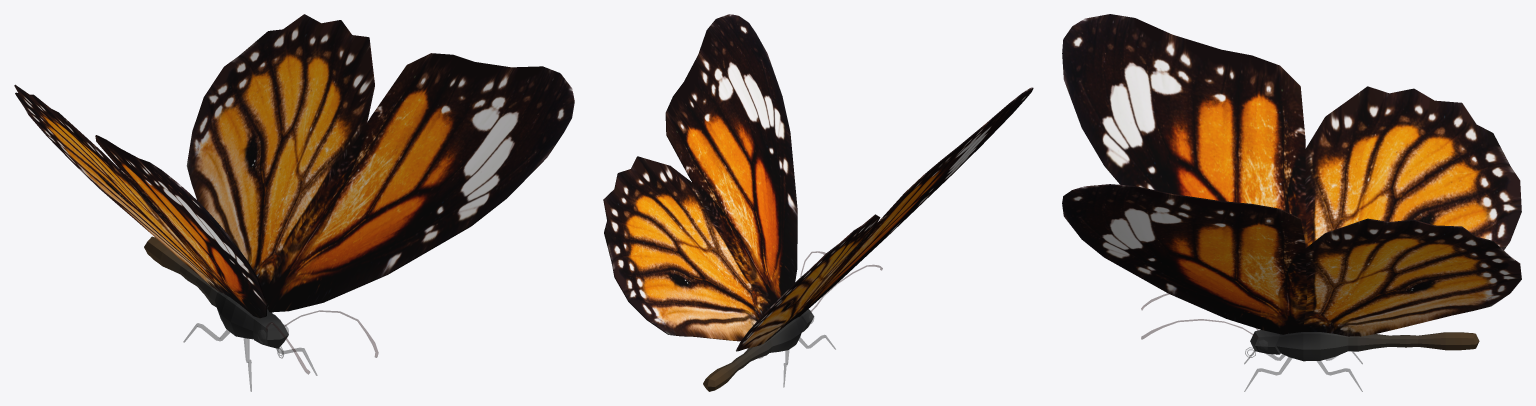
Rendered from Butterfly.glb.
The picture shows the model from 3 angles, left to right: view 1: azimuth 30°, elevation 25°; view 2: azimuth 150°, elevation 25°; view 3: azimuth 270°, elevation 25°; orthographic projection. The views are drawn at different scales.
Parts seen in each view (by area): view 1: butterfly; view 2: butterfly; view 3: butterfly.
Boxes of the visible parts, box(x1,y1,x2,y2) form: butterfly: box(14, 14, 574, 391); butterfly: box(603, 14, 1033, 391); butterfly: box(1062, 14, 1521, 391).
Size of the model in its own units: 16.25 by 12.37 by 18.47.
Materials: 4 (1 with a texture image).
